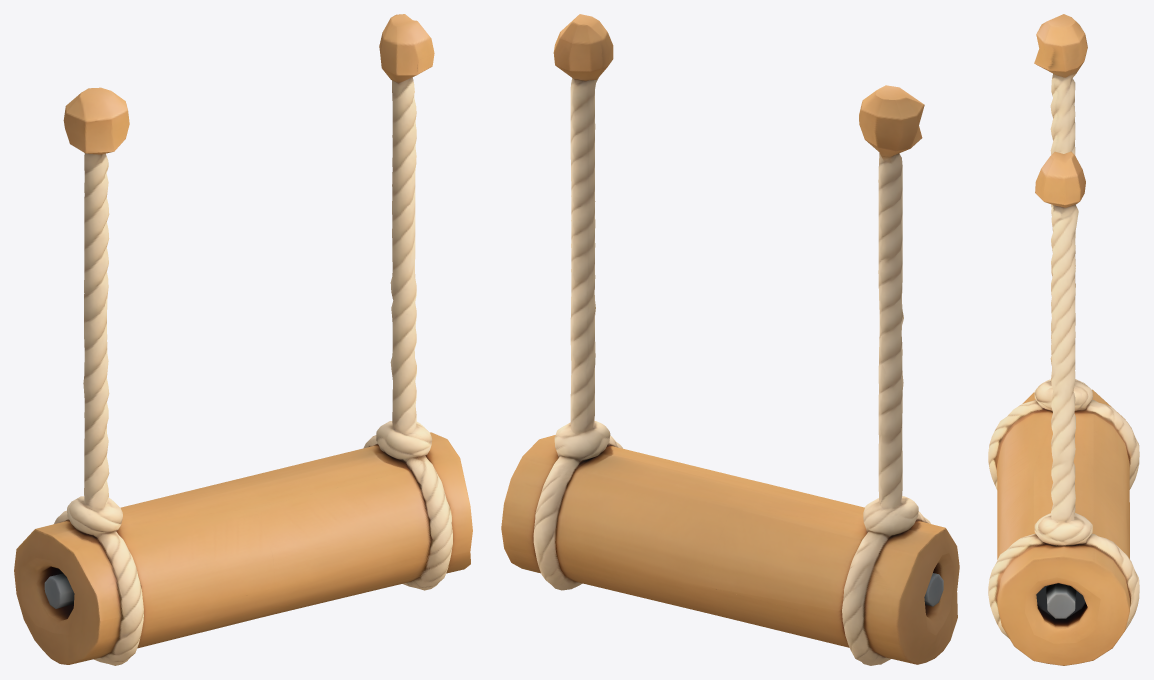
File: base_basic_shaded.fbx
3 renders of one model, left to right at view 1: azimuth 30°, elevation 25°; view 2: azimuth 150°, elevation 25°; view 3: azimuth 270°, elevation 25°, orthographic. The views are drawn at different scales.
Visible parts, largest first — view 1: model; view 2: model; view 3: model.
Boxes of the visible parts, <box> form: model: <box>14,14,472,665</box>; model: <box>501,14,959,665</box>; model: <box>988,14,1139,665</box>.
Size of the model in its own units: 137 by 176 by 48.25.
